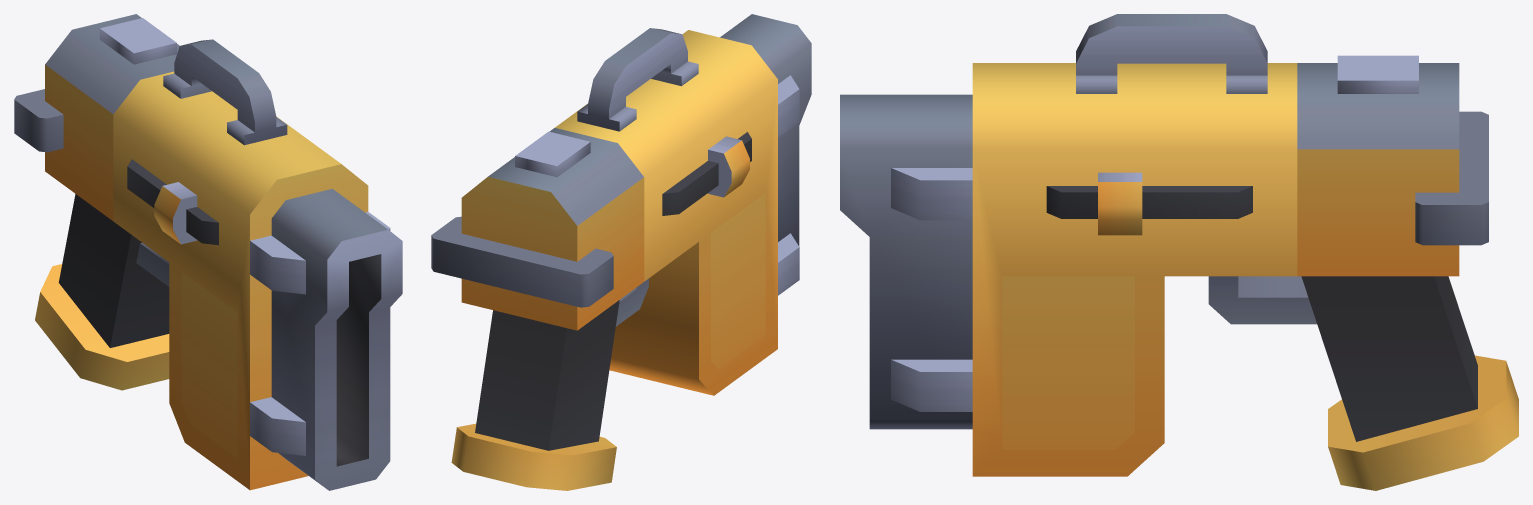
3 views of the same model, side by side, from view 1: azimuth 30°, elevation 25°; view 2: azimuth 150°, elevation 25°; view 3: azimuth 270°, elevation 25° (orthographic). The views are drawn at different scales.
Parts seen in each view (by area): view 1: blaster-k; view 2: blaster-k; view 3: blaster-k.
Part boxes in pixels (x1,y1,x2,y2): blaster-k: (14,14,402,490); blaster-k: (431,14,811,490); blaster-k: (840,14,1518,490).
Bounding box in the file's own units: 0.101 × 0.2175 × 0.3.
Materials: 1 (1 with a texture image).
